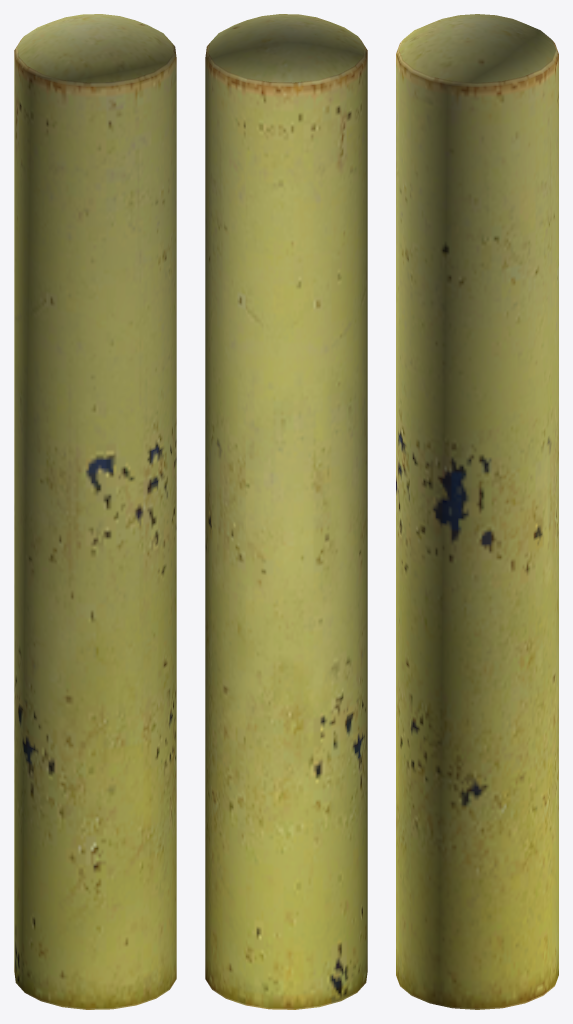
File: bollard.fbx
The picture shows the model from 3 angles, left to right: view 1: azimuth 30°, elevation 25°; view 2: azimuth 150°, elevation 25°; view 3: azimuth 270°, elevation 25°; orthographic projection.
Visible parts, largest first — view 1: bollard.001; view 2: bollard.001; view 3: bollard.001.
Part boxes in pixels (bbox=[...]): bollard.001: bbox=[14, 14, 176, 1009]; bollard.001: bbox=[205, 14, 367, 1009]; bollard.001: bbox=[396, 14, 558, 1009].
Bounding box in the file's own units: 0.2449 × 1.57 × 0.2448.
1 material, 1 textured.
